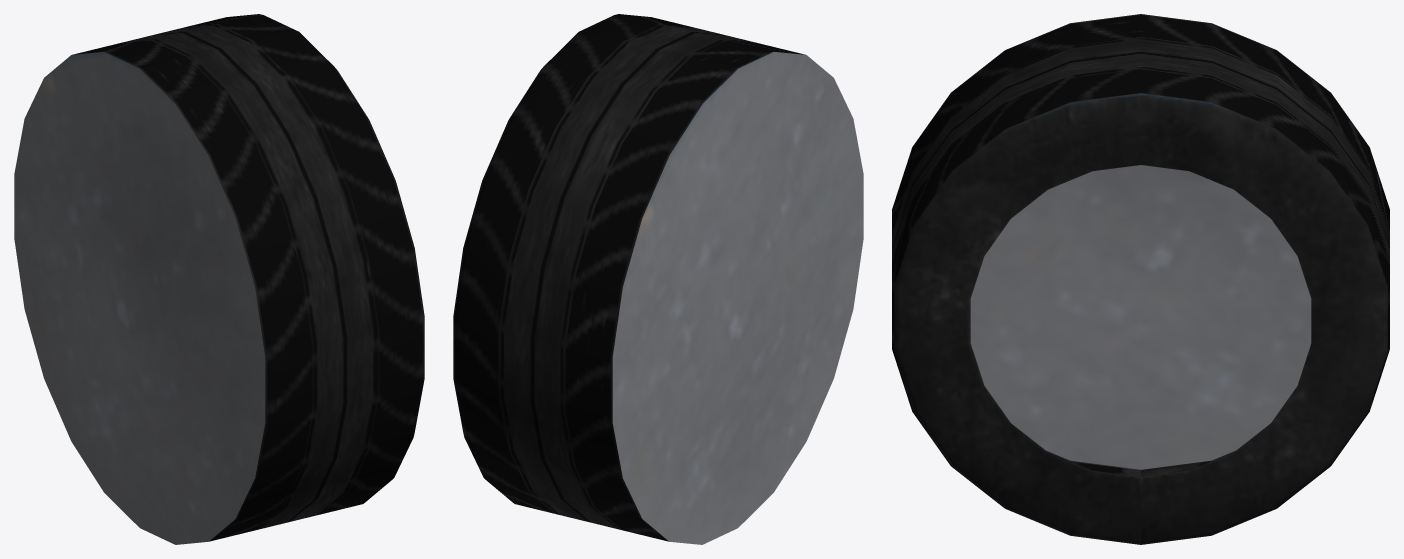
Rendered from sedan_car_wheel_lf_sedan_car_wheel_lf_1_0.glb.
3 renders of one model, left to right at view 1: azimuth 30°, elevation 25°; view 2: azimuth 150°, elevation 25°; view 3: azimuth 270°, elevation 25°, orthographic.
Parts seen in each view (by area): view 1: sedan_car_wheel_lf_sedan_car_wheel_lf_1_0; view 2: sedan_car_wheel_lf_sedan_car_wheel_lf_1_0; view 3: sedan_car_wheel_lf_sedan_car_wheel_lf_1_0.
Boxes of the visible parts, <box> form: sedan_car_wheel_lf_sedan_car_wheel_lf_1_0: <box>14,14,424,544</box>; sedan_car_wheel_lf_sedan_car_wheel_lf_1_0: <box>453,14,863,544</box>; sedan_car_wheel_lf_sedan_car_wheel_lf_1_0: <box>892,14,1389,544</box>.
Bounding box in the file's own units: 0.2804 × 0.7219 × 0.7146.
Materials: 1 (1 with a texture image).
